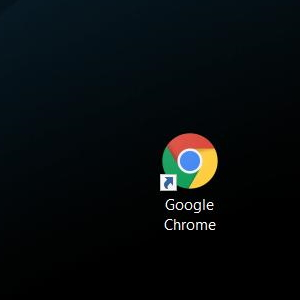chrome: (159, 132, 218, 191)
